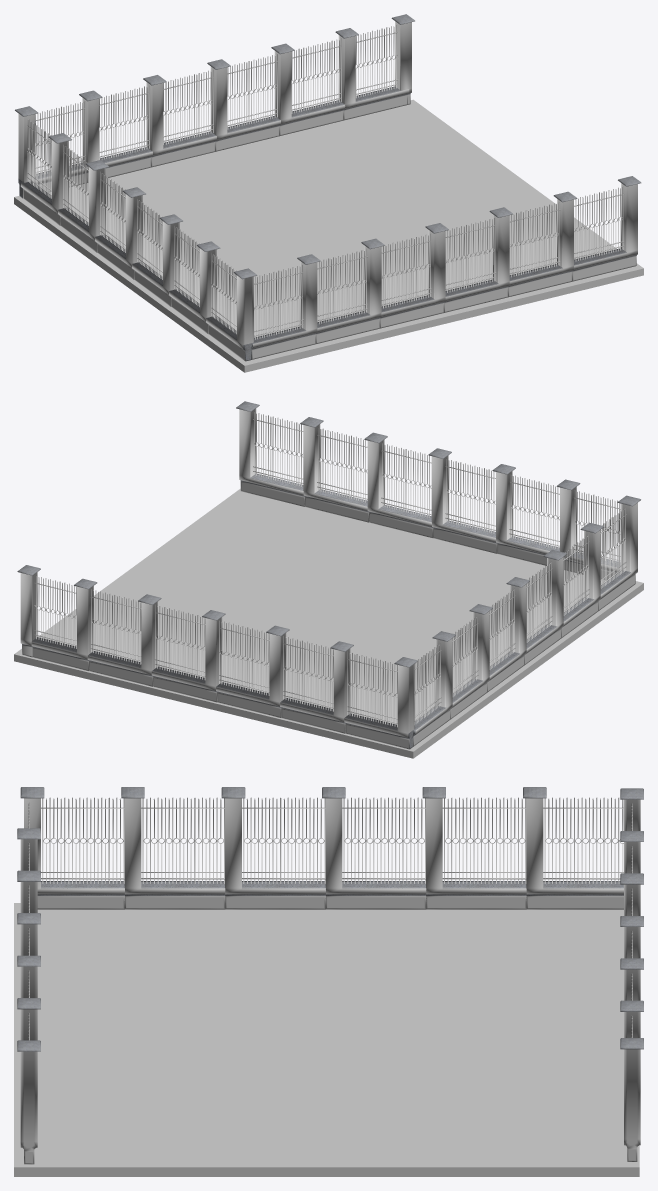
The model's file is arena-template.fbx.
The picture shows the model from 3 angles, top to bottom: view 1: azimuth 30°, elevation 25°; view 2: azimuth 150°, elevation 25°; view 3: azimuth 270°, elevation 25°; orthographic projection. The views are drawn at different scales.
Visible parts, largest first — view 1: Platform, Poles&Metal.003, Poles&Metal.001, Poles&Metal, Poles&Metal.002; view 2: Platform, Poles&Metal.001, Poles&Metal.003, Poles&Metal, Poles&Metal.002; view 3: Platform, Poles&Metal, Poles&Metal.003, Poles&Metal.001, Poles&Metal.002.
Part boxes in pixels (x1,y1,x2,y2): Platform: (14, 99, 643, 372); Poles&Metal.003: (252, 176, 641, 359); Poles&Metal.001: (15, 25, 409, 198); Poles&Metal: (21, 119, 257, 361); Poles&Metal.002: (391, 14, 414, 104); Platform: (14, 488, 643, 758); Poles&Metal.001: (31, 575, 417, 749); Poles&Metal.003: (236, 401, 620, 580); Poles&Metal: (413, 495, 640, 746); Poles&Metal.002: (17, 565, 40, 657); Platform: (14, 903, 639, 1176); Poles&Metal: (20, 787, 623, 909); Poles&Metal.003: (17, 802, 40, 1164); Poles&Metal.001: (620, 788, 643, 1037); Poles&Metal.002: (620, 1038, 643, 1161).
Size of the model in its own units: 625 by 140 by 621.
